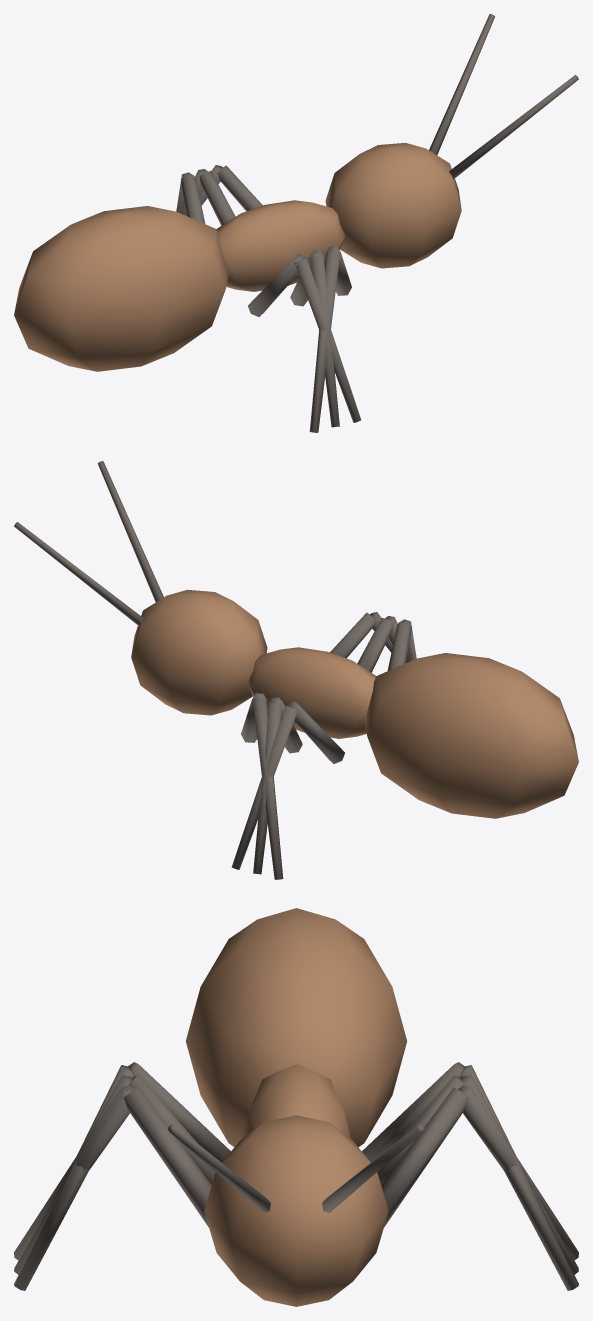
File: taiwan-long-legged-ant.glb
3 views of the same model, one above another, from view 1: azimuth 30°, elevation 25°; view 2: azimuth 150°, elevation 25°; view 3: azimuth 270°, elevation 25° (orthographic). The views are drawn at different scales.
Visible parts, largest first — view 1: e; view 2: e; view 3: e.
Part boxes in pixels (x1,y1,x2,y2): e: (14,14,578,432); e: (14,461,578,879); e: (14,908,578,1306).
Bounding box in the file's own units: 0.2891 × 0.1293 × 0.1836.
